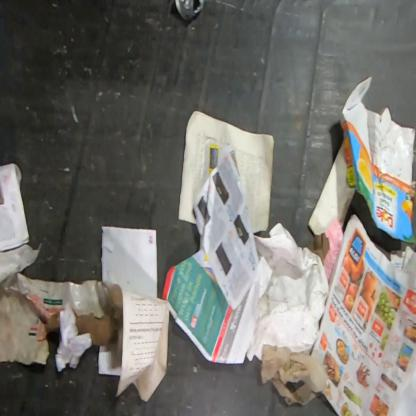cardboard: (339, 75, 416, 246), (0, 271, 124, 366), (307, 140, 356, 236)
metal: (174, 0, 205, 22)
soft_plastic: (323, 217, 344, 285)
